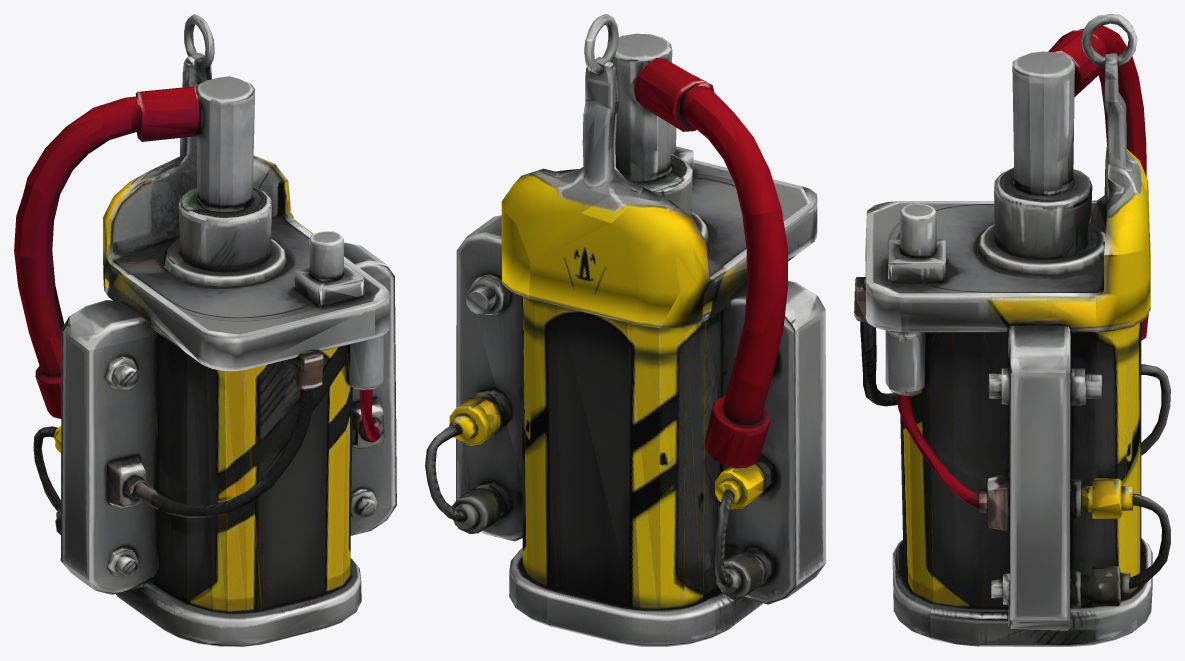
File: ignition_coil.glb
3 renders of one model, left to right at view 1: azimuth 30°, elevation 25°; view 2: azimuth 150°, elevation 25°; view 3: azimuth 270°, elevation 25°, orthographic. The views are drawn at different scales.
Bounding box in the file's own units: 0.623 × 1 × 0.4902.
Materials: 1 (1 with a texture image).
